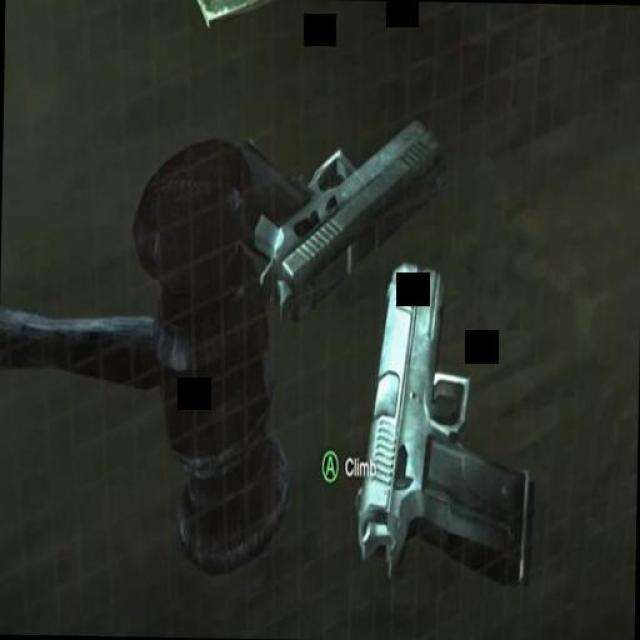gun: (304, 262, 545, 598)
